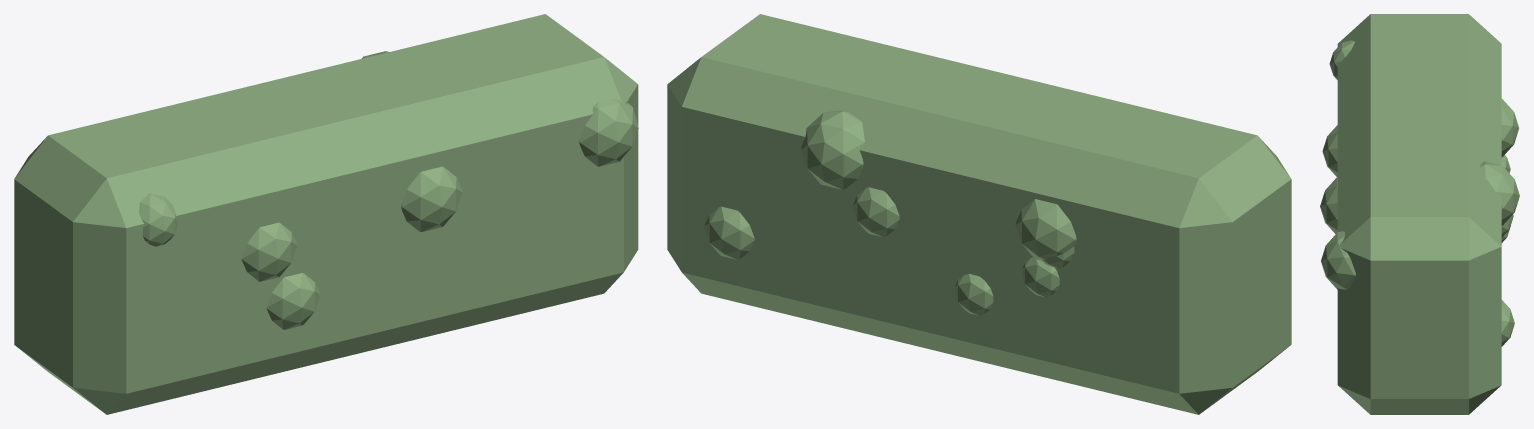
Rendered from hedge.glb.
3 renders of one model, left to right at view 1: azimuth 30°, elevation 25°; view 2: azimuth 150°, elevation 25°; view 3: azimuth 270°, elevation 25°, orthographic. The views are drawn at different scales.
Visible parts, largest first — view 1: hedge_hedge; view 2: hedge_hedge; view 3: hedge_hedge.
Boxes of the visible parts, <box> form: hedge_hedge: <box>14,14,638,414</box>; hedge_hedge: <box>667,14,1291,414</box>; hedge_hedge: <box>1320,14,1519,414</box>.
Size of the model in its own units: 2 by 0.8 by 0.7324.
